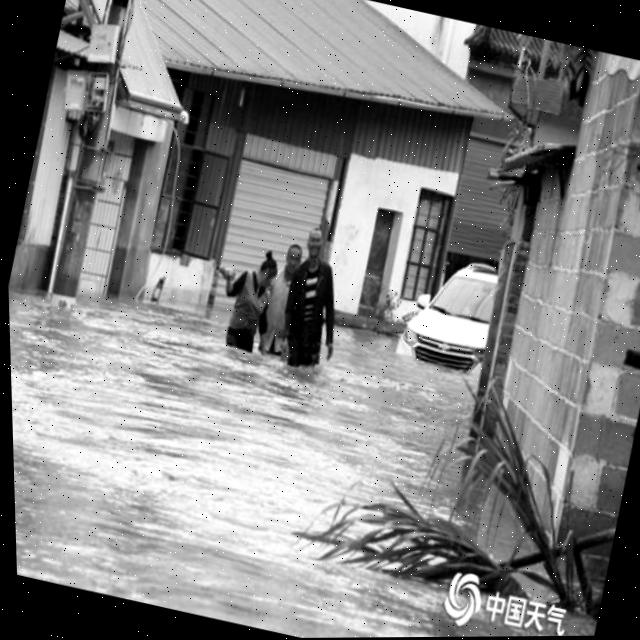civilian: (258, 214, 370, 388), (186, 235, 288, 375), (245, 228, 333, 370)
